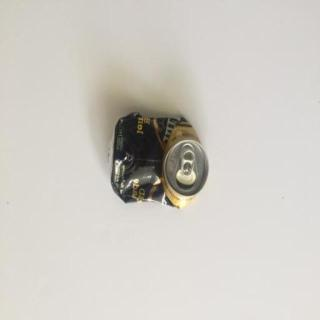Anorganik: (106, 108, 210, 214)
